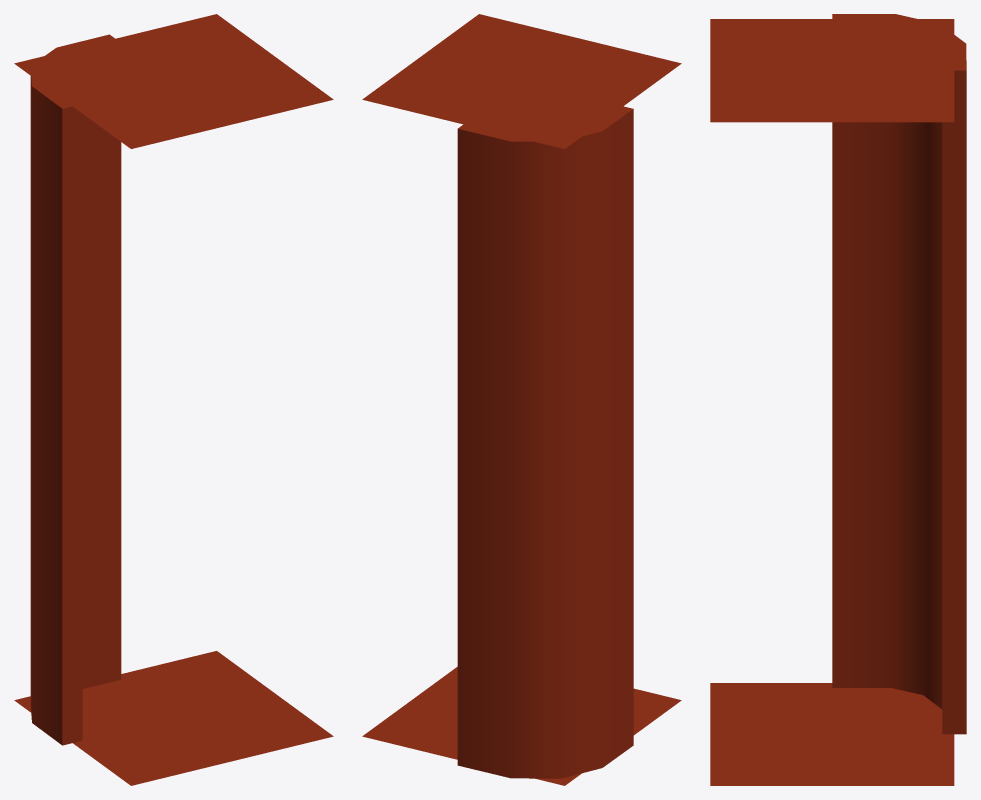
File: Jap_Ccorner.fbx
3 renders of one model, left to right at view 1: azimuth 30°, elevation 25°; view 2: azimuth 150°, elevation 25°; view 3: azimuth 270°, elevation 25°, orthographic. The views are drawn at different scales.
Parts seen in each view (by area): view 1: Convex_corner006, Plane016, Plane015; view 2: Convex_corner006, Plane016, Plane015; view 3: Convex_corner006, Plane016, Plane015.
Boxes of the visible parts, x1=… form: Convex_corner006: x1=30, y1=34, x2=121, y2=745; Plane016: x1=14, y1=14, x2=333, y2=148; Plane015: x1=14, y1=651, x2=333, y2=785; Convex_corner006: x1=457, y1=104, x2=633, y2=778; Plane016: x1=362, y1=14, x2=681, y2=148; Plane015: x1=362, y1=667, x2=681, y2=785; Convex_corner006: x1=832, y1=14, x2=966, y2=734; Plane016: x1=710, y1=19, x2=954, y2=122; Plane015: x1=710, y1=683, x2=954, y2=785.
Size of the model in its own units: 82.68 by 236 by 82.68.
